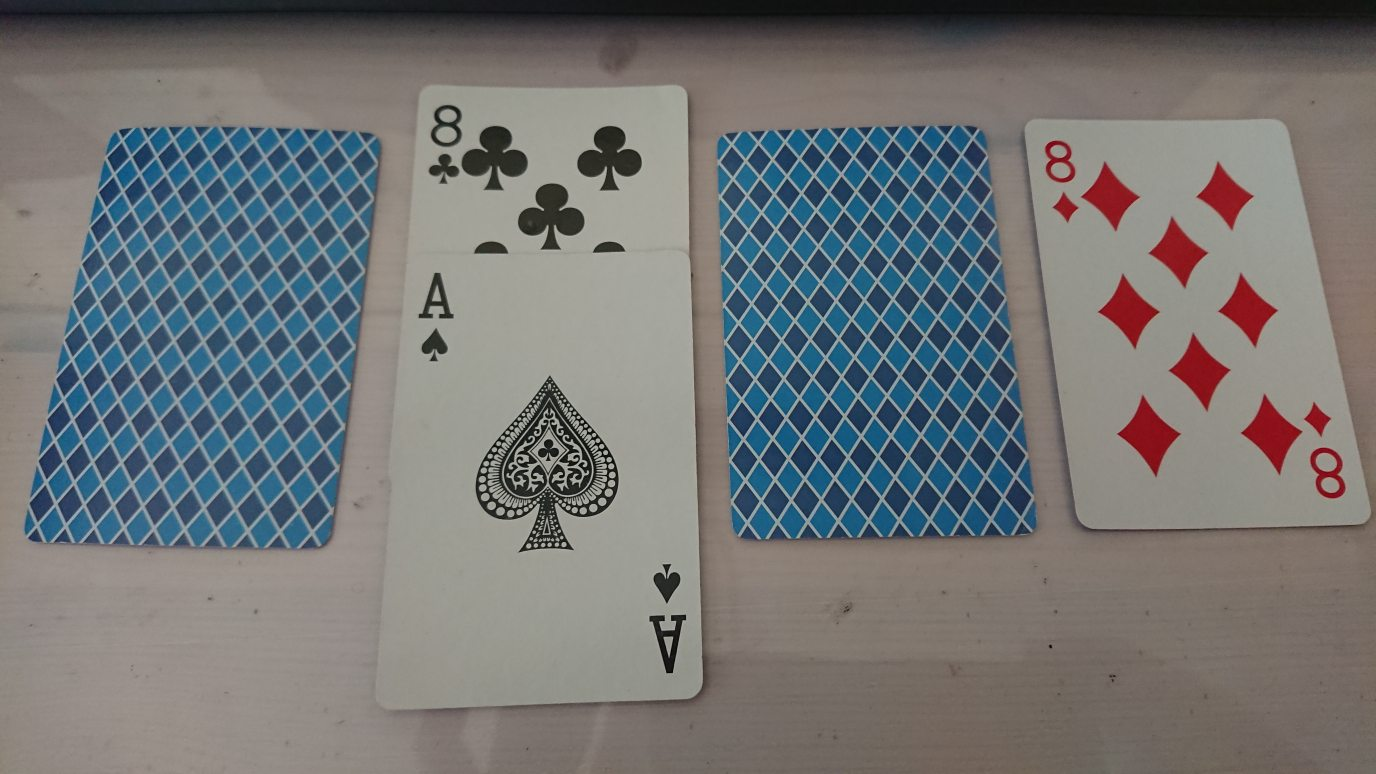8C: (424, 102, 467, 189)
8D: (1040, 136, 1082, 227)
AS: (412, 270, 461, 366)
BACK: (19, 125, 382, 555), (714, 124, 1039, 544)
